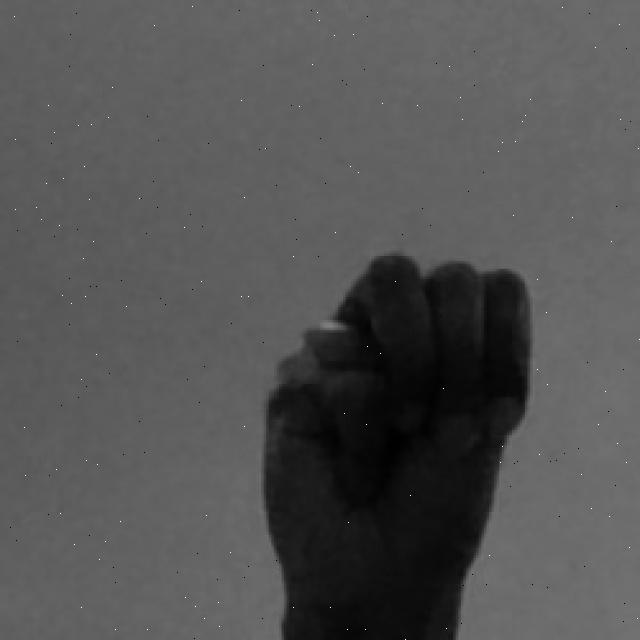M: (261, 245, 534, 640)
